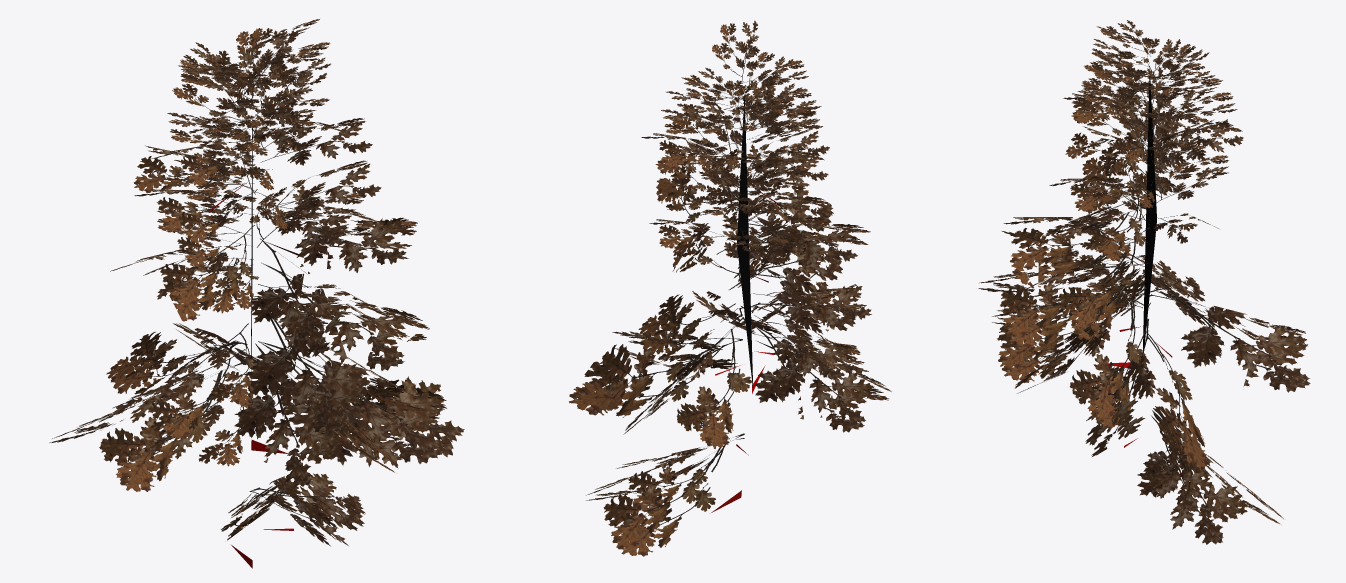
The model's file is spruce4 lod3.FBX.
3 views of the same model, side by side, from view 1: azimuth 30°, elevation 25°; view 2: azimuth 150°, elevation 25°; view 3: azimuth 270°, elevation 25° (orthographic). The views are drawn at different scales.
Parts seen in each view (by area): view 1: spruce4_LOD3; view 2: spruce4_LOD3; view 3: spruce4_LOD3.
Part boxes in pixels (x1,y1,x2,y2): spruce4_LOD3: [49, 19, 464, 568]; spruce4_LOD3: [569, 20, 891, 556]; spruce4_LOD3: [978, 20, 1310, 544].
Size of the model in its own units: 72973 by 96145 by 67719.
